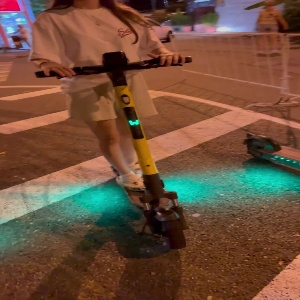human on a scooter: (27, 1, 193, 250)
